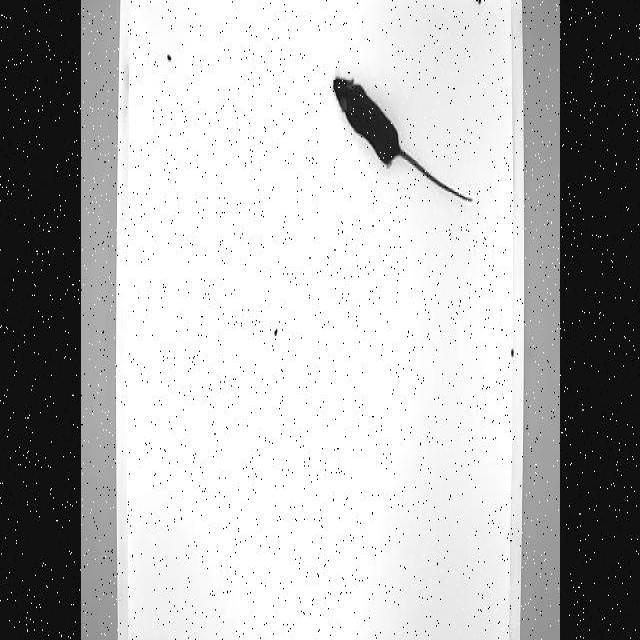rat: (332, 79, 472, 204)
